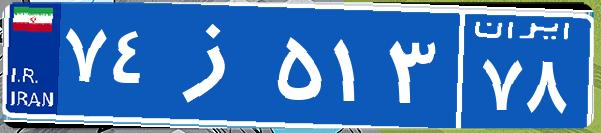1: (330, 28, 385, 110)
3: (385, 28, 445, 110)
4: (110, 28, 158, 105)
5: (273, 28, 330, 110)
7: (57, 26, 110, 107), (475, 38, 525, 113)
8: (525, 38, 570, 115)
ز: (158, 15, 273, 115)
